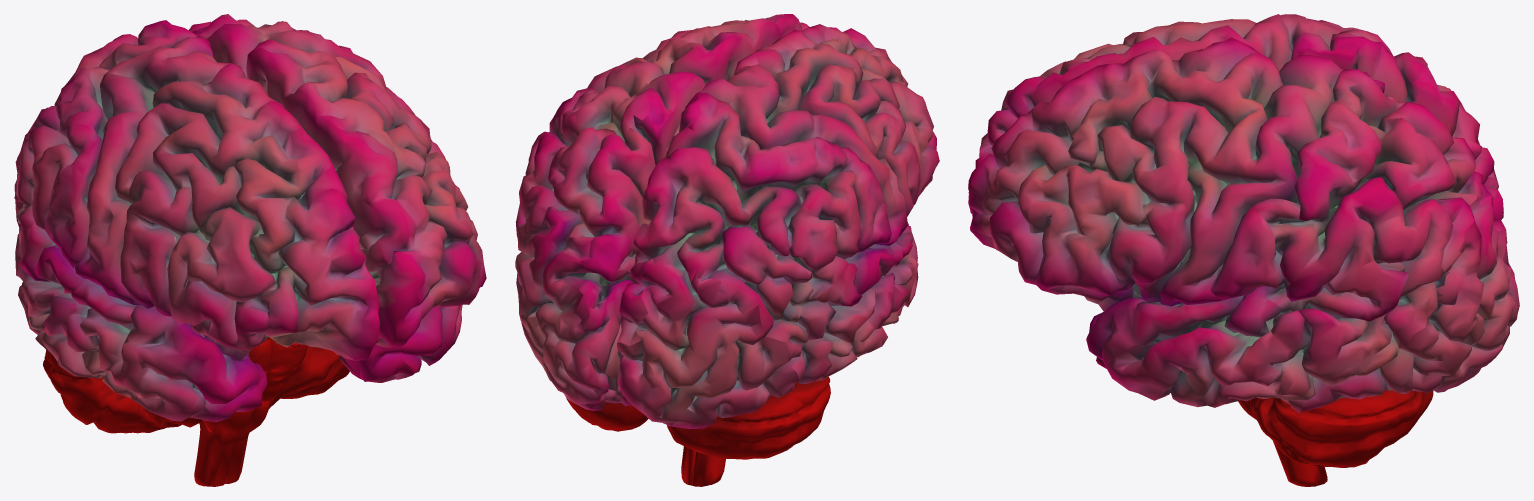
The model's file is mozgani-telefon.glb.
3 views of the same model, side by side, from view 1: azimuth 30°, elevation 25°; view 2: azimuth 150°, elevation 25°; view 3: azimuth 270°, elevation 25° (orthographic). The views are drawn at different scales.
Visible parts, largest first — view 1: Frontal lobe (MRI).r, Frontal lobe (MRI).l, Temporal lobe (MRI).r, Parietal lobe (MRI).r, Cerebellum (MRI), Temporal lobe (MRI).l, Medulla oblongata.r, Pons.l, Medulla oblongata.l, Parietal lobe (MRI).l, Pons.r; view 2: Parietal lobe (MRI).r, Frontal lobe (MRI).r, Parietal lobe (MRI).l, Occipital lobe (MRI).r, Occipital lobe (MRI).l, Temporal lobe (MRI).r, Frontal lobe (MRI).l, Cerebellum (MRI), Medulla oblongata.r, Medulla oblongata.l; view 3: Frontal lobe (MRI).l, Parietal lobe (MRI).l, Temporal lobe (MRI).l, Occipital lobe (MRI).l, Frontal lobe (MRI).r, Cerebellum (MRI), Parietal lobe (MRI).r, Medulla oblongata.l.
Boxes of the visible parts, x1,y1,x2,y2 form: Frontal lobe (MRI).r: [75, 35, 379, 360]; Frontal lobe (MRI).l: [192, 24, 486, 348]; Temporal lobe (MRI).r: [15, 222, 267, 422]; Parietal lobe (MRI).r: [14, 20, 196, 267]; Cerebellum (MRI): [43, 346, 349, 433]; Temporal lobe (MRI).l: [339, 304, 462, 382]; Medulla oblongata.r: [194, 409, 253, 486]; Pons.l: [262, 337, 307, 401]; Medulla oblongata.l: [225, 398, 274, 483]; Parietal lobe (MRI).l: [189, 14, 352, 53]; Pons.r: [248, 337, 271, 376]; Parietal lobe (MRI).r: [617, 93, 891, 345]; Frontal lobe (MRI).r: [685, 24, 939, 245]; Parietal lobe (MRI).l: [515, 85, 668, 340]; Occipital lobe (MRI).r: [617, 255, 799, 429]; Occipital lobe (MRI).l: [516, 235, 632, 410]; Temporal lobe (MRI).r: [765, 222, 918, 383]; Frontal lobe (MRI).l: [587, 14, 809, 165]; Cerebellum (MRI): [566, 377, 830, 459]; Medulla oblongata.r: [692, 451, 725, 486]; Medulla oblongata.l: [681, 446, 695, 485]; Frontal lobe (MRI).l: [968, 37, 1384, 311]; Parietal lobe (MRI).l: [1209, 69, 1509, 348]; Temporal lobe (MRI).l: [1086, 283, 1397, 412]; Occipital lobe (MRI).l: [1377, 181, 1519, 394]; Frontal lobe (MRI).r: [968, 14, 1359, 213]; Cerebellum (MRI): [1250, 389, 1433, 467]; Parietal lobe (MRI).r: [1319, 20, 1503, 220]; Medulla oblongata.l: [1238, 399, 1327, 486].
Size of the model in its own units: 0.138 by 0.1608 by 0.1805.
1 material, 1 textured.
